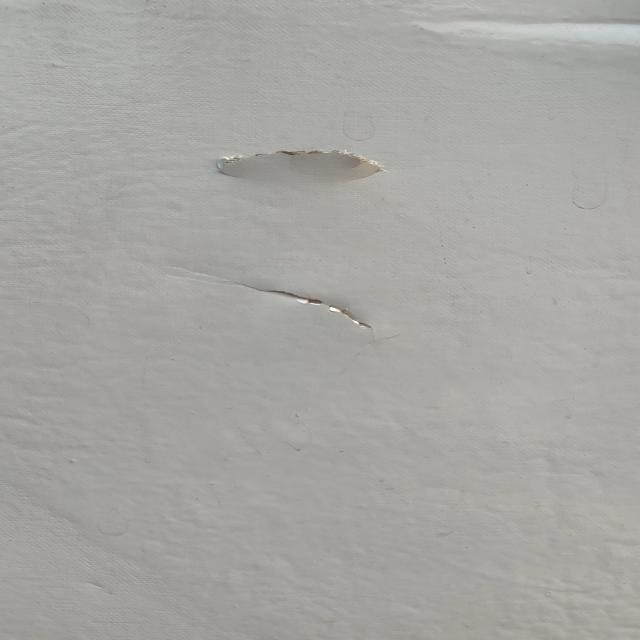Dents or Deformation: (402, 1, 640, 41)
Scratches: (248, 275, 399, 344), (187, 141, 410, 186)
